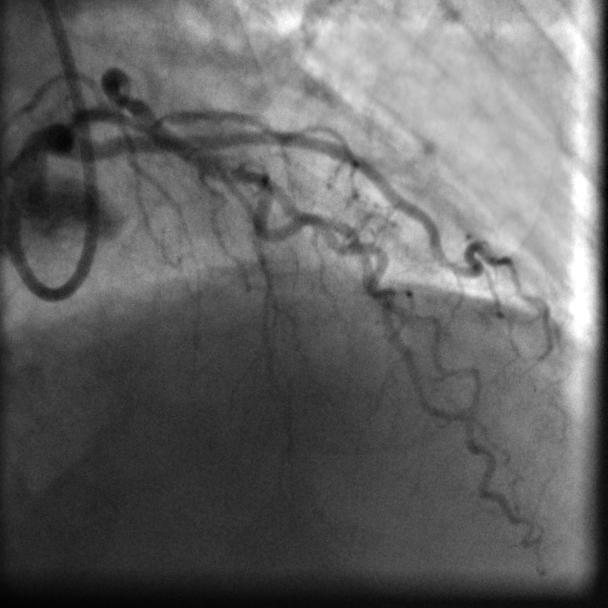Stenosis: (105, 76, 138, 118)
